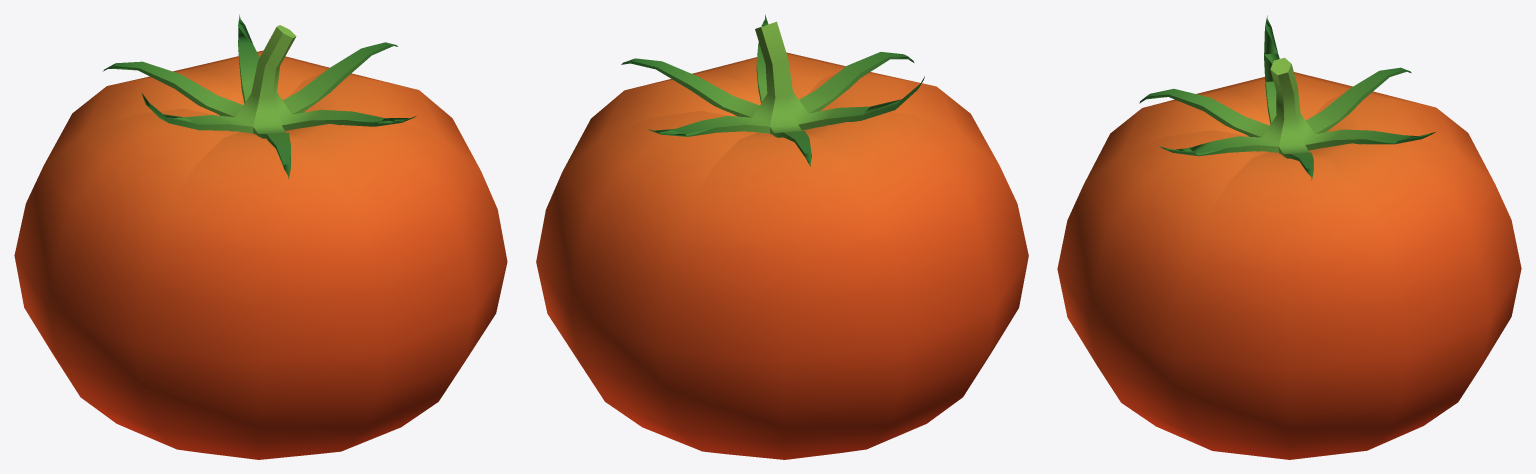
The model's file is Tomato.fbx.
3 views of the same model, side by side, from view 1: azimuth 30°, elevation 25°; view 2: azimuth 150°, elevation 25°; view 3: azimuth 270°, elevation 25° (orthographic). The views are drawn at different scales.
Visible parts, largest first — view 1: Tomato; view 2: Tomato; view 3: Tomato.
Part boxes in pixels (box(x1,y1,x2,y2)): Tomato: box(14, 14, 507, 459); Tomato: box(536, 14, 1028, 459); Tomato: box(1057, 15, 1521, 459).
Bounding box in the file's own units: 4.57 × 4.05 × 4.57.
